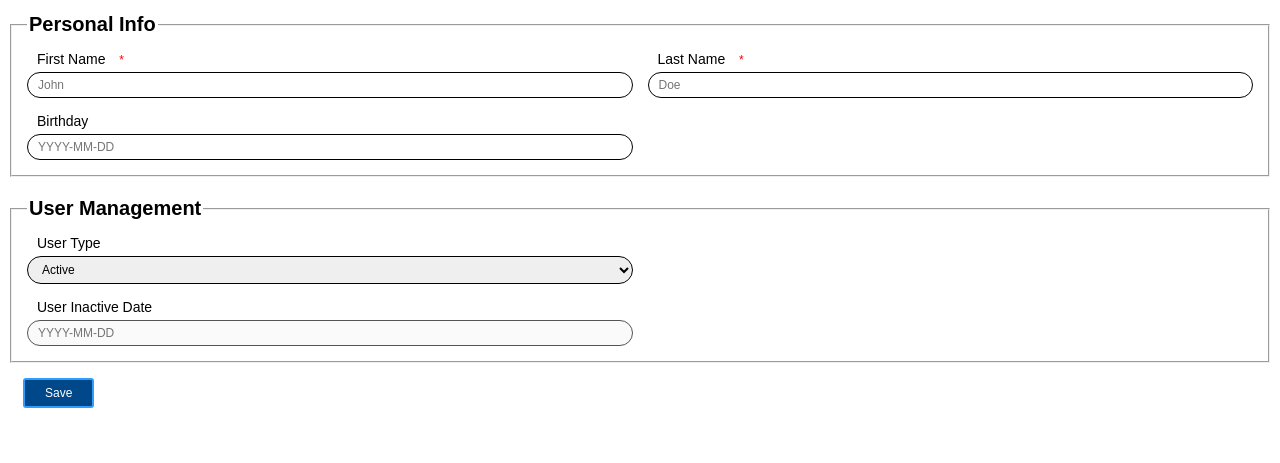
test FormTaskComplete › test inactive date empty
Select "Inactive" in the dropdown labelled "User Type" at point(330, 270), box [27,256,632,284]
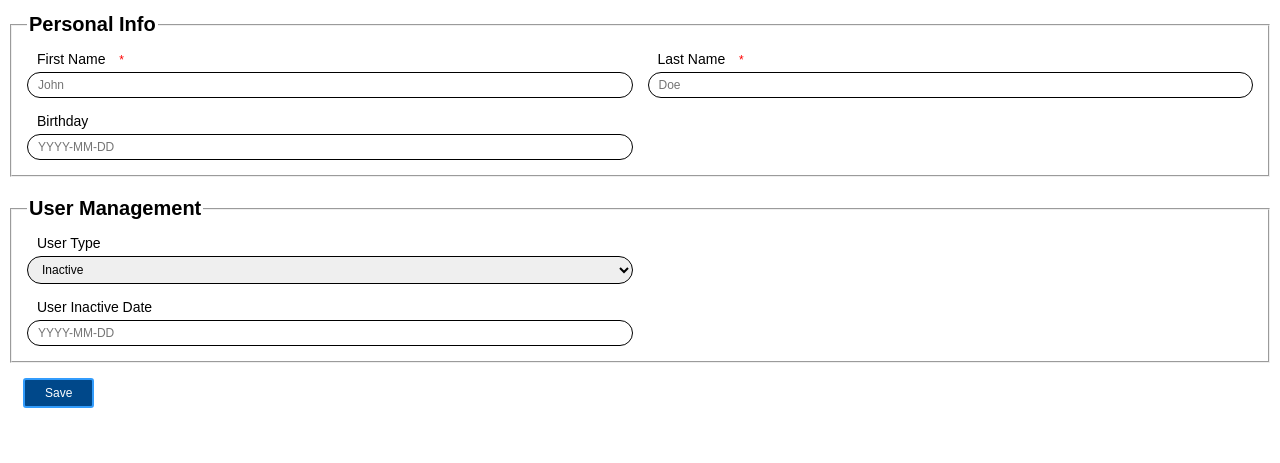
Click the button "Save" at point(59, 393), box [23,378,94,408]
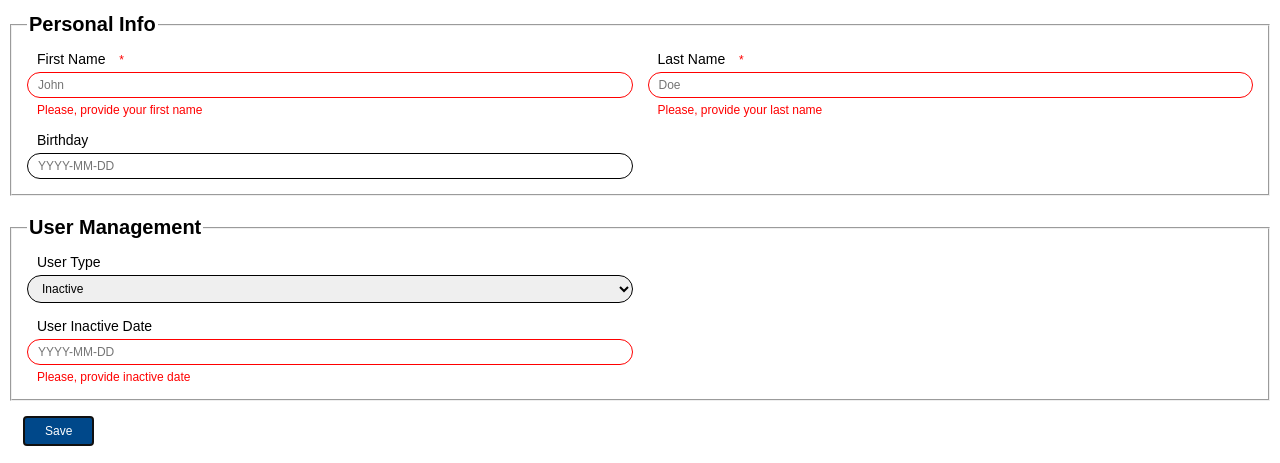
Expected: the text "Please, provide inactive date" is shown, [37,370,190,384]
